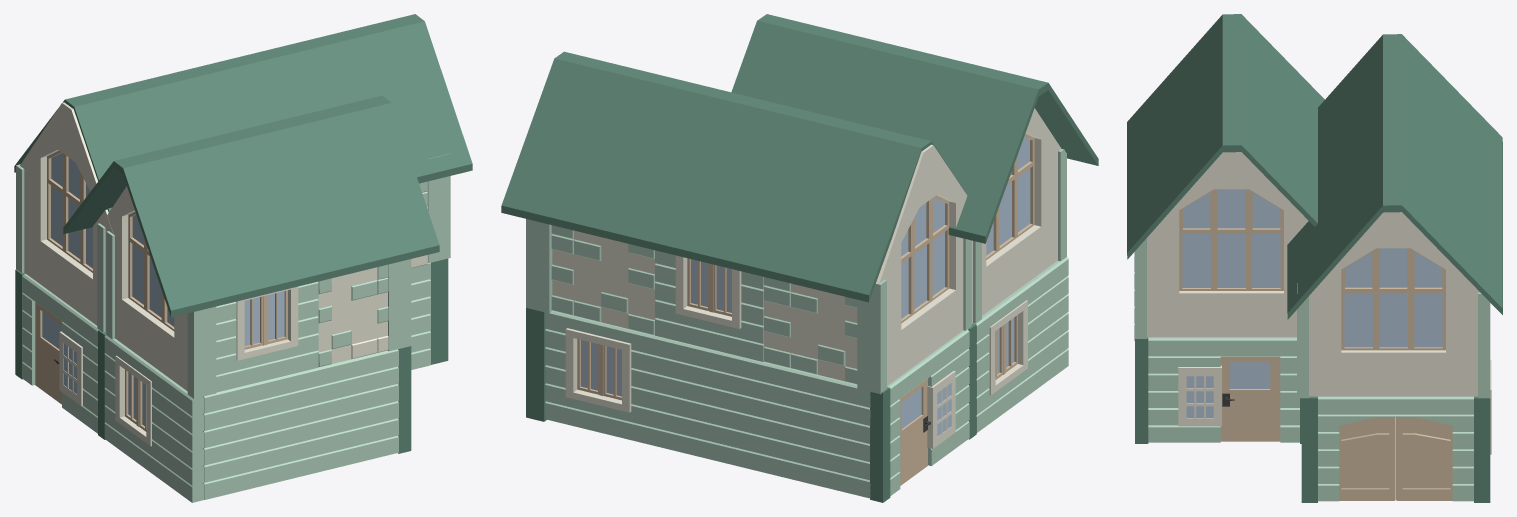
Rendered from House_03.fbx.
3 renders of one model, left to right at view 1: azimuth 30°, elevation 25°; view 2: azimuth 150°, elevation 25°; view 3: azimuth 270°, elevation 25°, orthographic. The views are drawn at different scales.
Parts seen in each view (by area): view 1: House_03; view 2: House_03; view 3: House_03.
Part boxes in pixels (x1,y1,x2,y2): House_03: [14, 14, 472, 502]; House_03: [501, 14, 1098, 502]; House_03: [1127, 14, 1502, 502].
Size of the model in its own units: 1273 by 991 by 1085.
